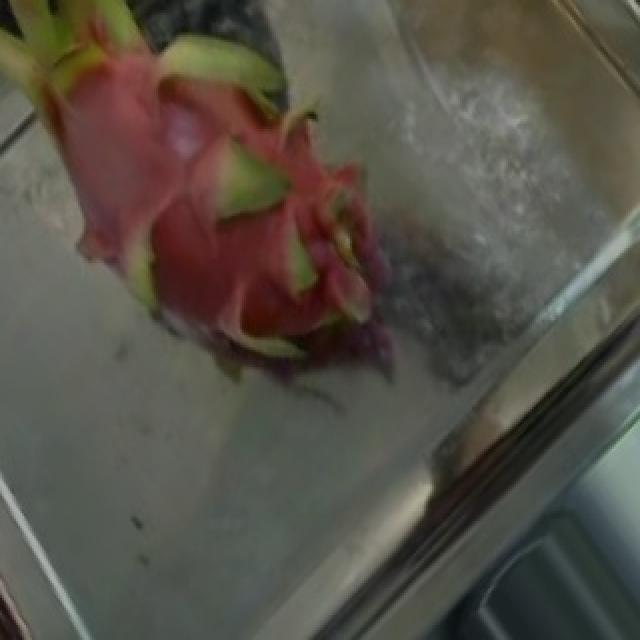fruit: (0, 0, 402, 427)
